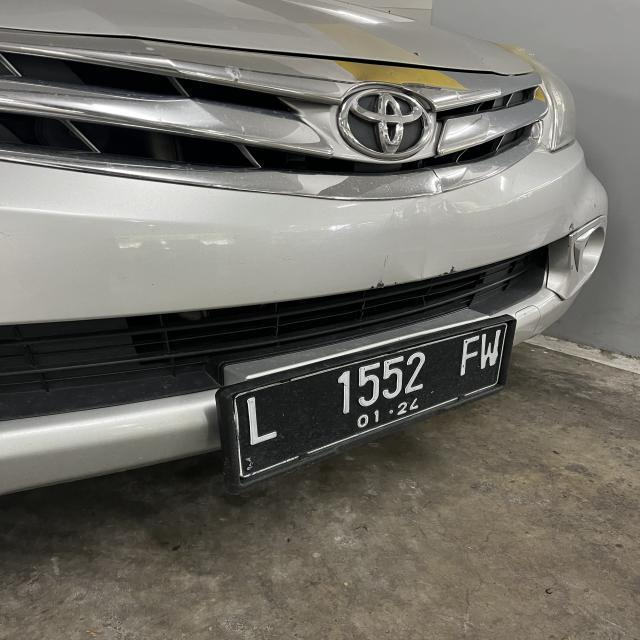1: (334, 370, 354, 415)
2: (406, 352, 424, 393)
5: (358, 362, 380, 408), (381, 357, 402, 400)
F: (461, 337, 478, 376)
L: (242, 395, 282, 445)
W: (481, 330, 499, 368)
